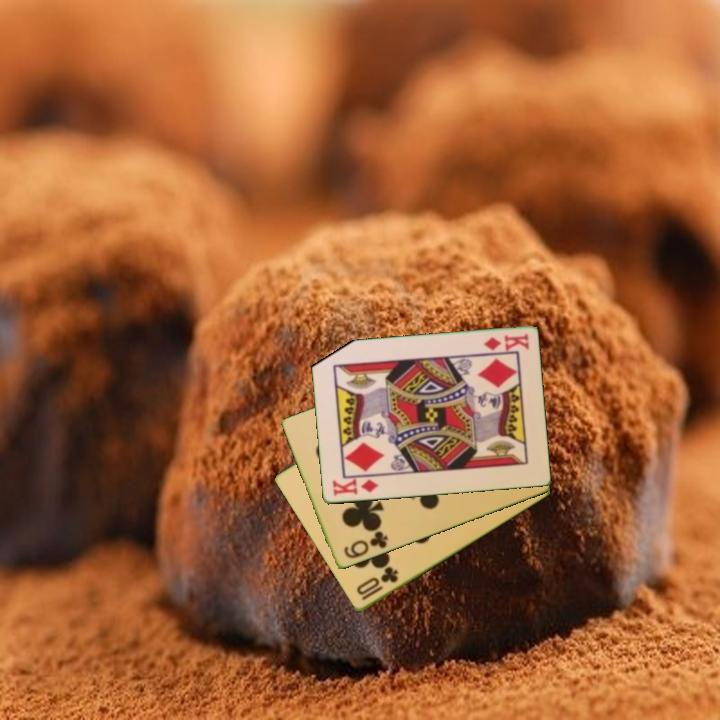10c: (353, 563, 401, 604)
6c: (340, 528, 391, 562)
Kd: (329, 476, 381, 499), (480, 331, 531, 353)
